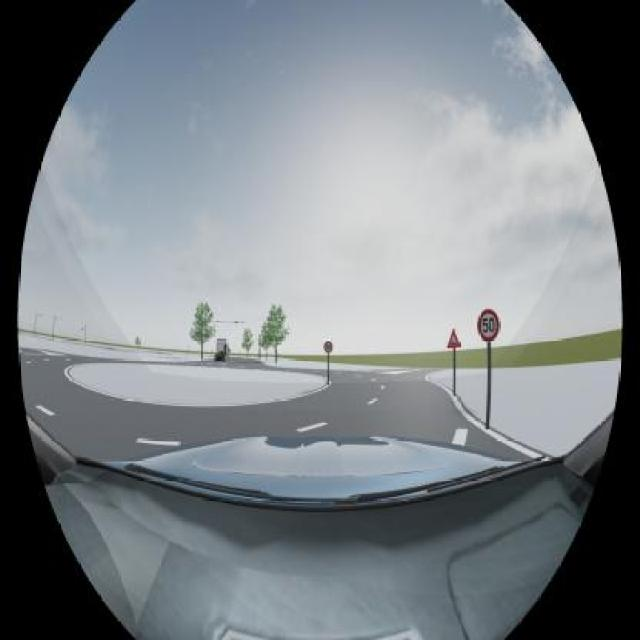Speed limit 50: (475, 307, 502, 346)
